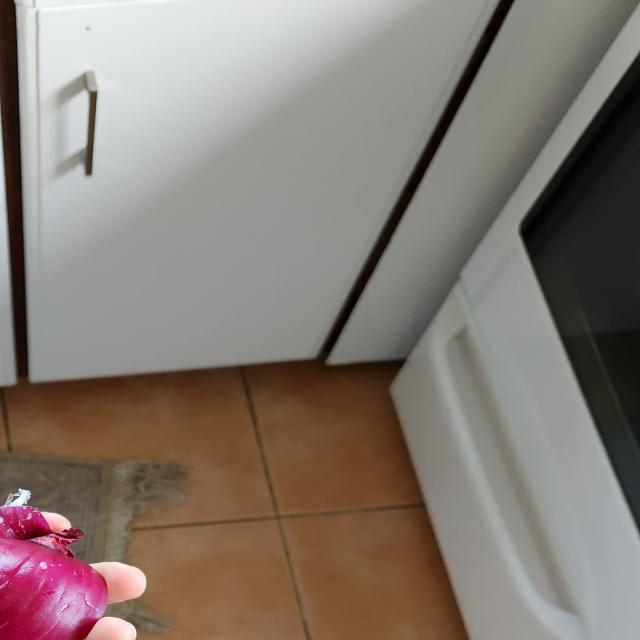red onion: (0, 516, 110, 640)
